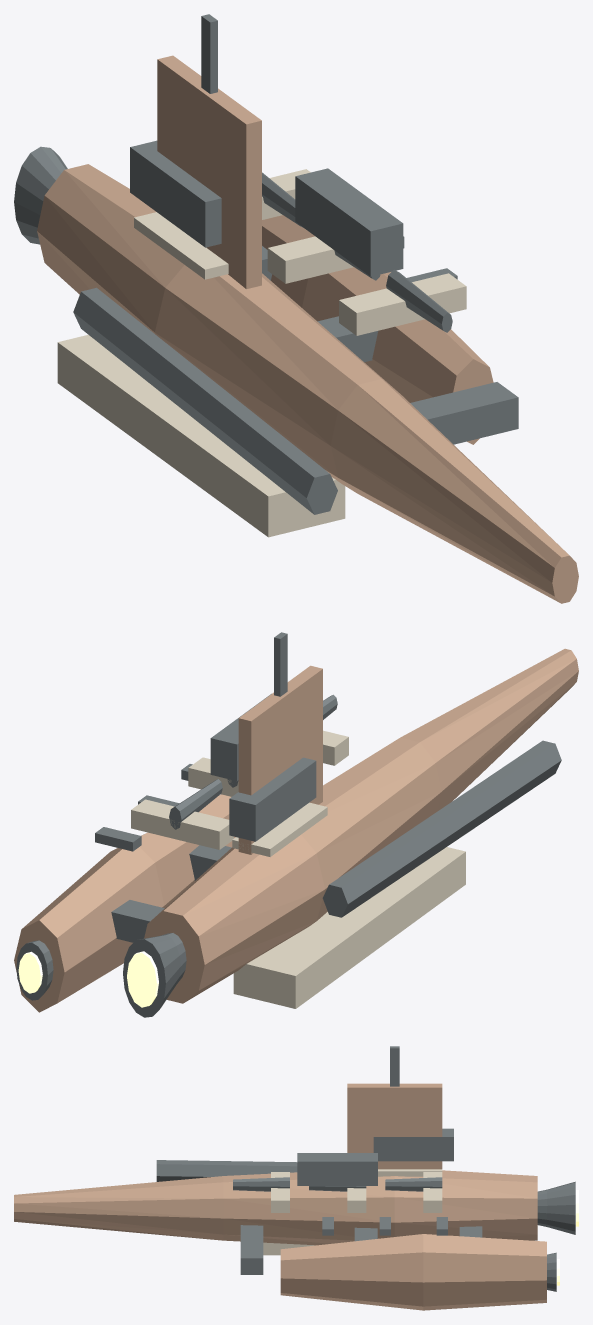
3 views of the same model, one above another, from view 1: azimuth 30°, elevation 25°; view 2: azimuth 150°, elevation 25°; view 3: azimuth 270°, elevation 25° (orthographic). The views are drawn at different scales.
Bounding box in the file's own units: 5.92 × 7.31 × 16.84.
